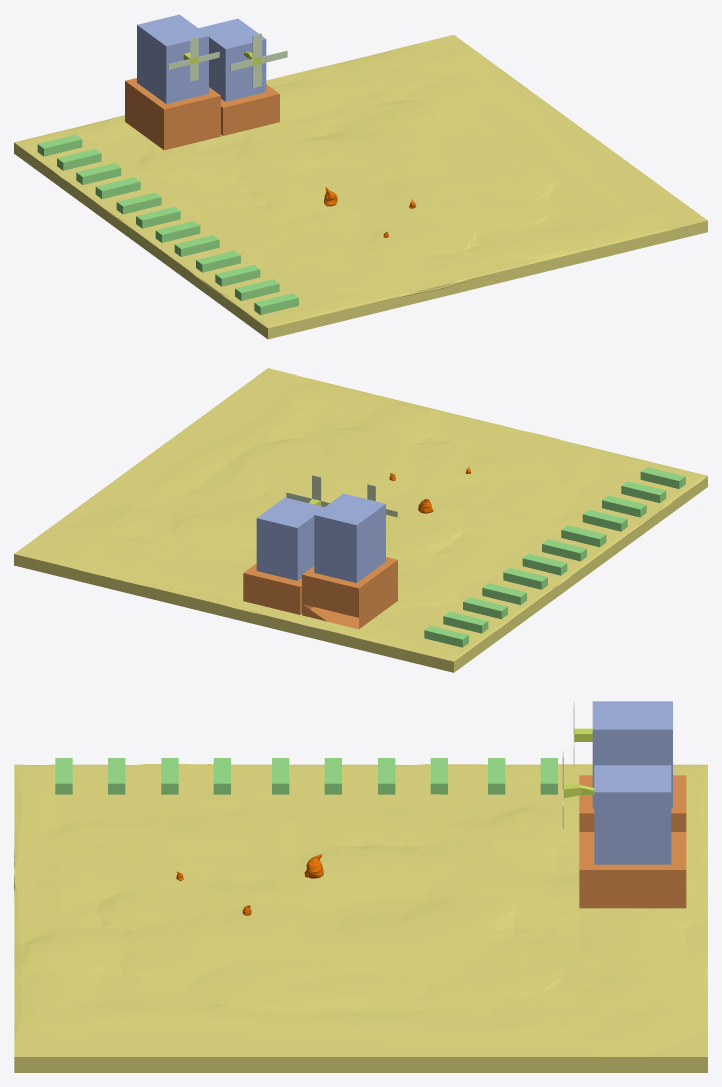
Rendered from Level 2-dae.dae.
The picture shows the model from 3 angles, top to bottom: view 1: azimuth 30°, elevation 25°; view 2: azimuth 150°, elevation 25°; view 3: azimuth 270°, elevation 25°; orthographic projection. The views are drawn at different scales.
Visible parts, largest first — view 1: Floor, L, Base_L, R, Base_R, Fan_R, Fan_L, Cube.010, Cube.009, Cube.005, Cube.004, Cube.002 (+7 smaller); view 2: Floor, L, Base_L, R, Base_R, Cube.011, Cube.004, Cube.003, Cube.001, Cube, Cube.006, Cube.012 (+5 smaller); view 3: Floor, R, Base_R, L, Base_L, Cube.010, Cube.009, Cube.006, Cube.005, Cube.004, Cube.003, Cube.002 (+3 smaller).
Part boxes in pixels (box(x1,y1,x2,y2)): Floor: box(14, 35, 707, 339); L: box(137, 14, 208, 103); Base_L: box(125, 78, 220, 150); R: box(198, 18, 266, 101); Base_R: box(221, 84, 279, 135); Fan_R: box(230, 33, 287, 87); Fan_L: box(168, 36, 219, 81); Cube.010: box(76, 163, 121, 184); Cube.009: box(95, 177, 140, 198); Cube.005: box(155, 221, 200, 242); Cube.004: box(174, 235, 219, 256); Cube.002: box(215, 265, 260, 286); Floor: box(14, 368, 707, 672); L: box(314, 493, 385, 582); Base_L: box(302, 557, 397, 629); R: box(256, 497, 324, 580); Base_R: box(243, 563, 301, 614); Cube.011: box(443, 611, 488, 633); Cube.004: box(561, 525, 606, 547); Cube.003: box(582, 509, 627, 531); Cube.001: box(621, 481, 666, 503); Cube: box(640, 467, 685, 488); Cube.006: box(522, 553, 567, 575); Cube.012: box(424, 625, 468, 647); Floor: box(14, 764, 707, 1072); R: box(594, 765, 671, 864); Base_R: box(579, 832, 686, 908); L: box(592, 701, 672, 808); Base_L: box(579, 775, 686, 831); Cube.010: box(540, 758, 557, 794); Cube.009: box(488, 758, 505, 794); Cube.006: box(378, 758, 395, 794); Cube.005: box(324, 758, 341, 794); Cube.004: box(272, 758, 289, 794); Cube.003: box(213, 758, 230, 794); Cube.002: box(161, 758, 178, 794).
Size of the model in its own units: 80.11 by 80.06 by 20.79.
